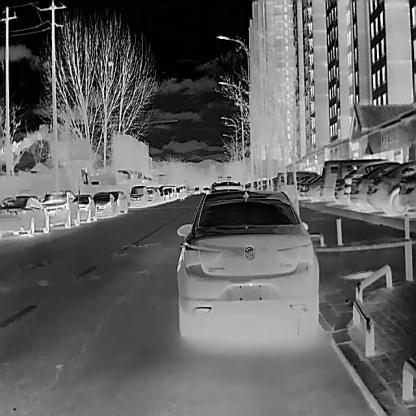car: (176, 191, 319, 340), (350, 163, 407, 208), (366, 164, 415, 212), (0, 195, 47, 240), (38, 189, 79, 230), (208, 180, 242, 208), (320, 158, 336, 204), (92, 192, 118, 216), (75, 194, 97, 222), (129, 185, 147, 207), (112, 190, 127, 212)
